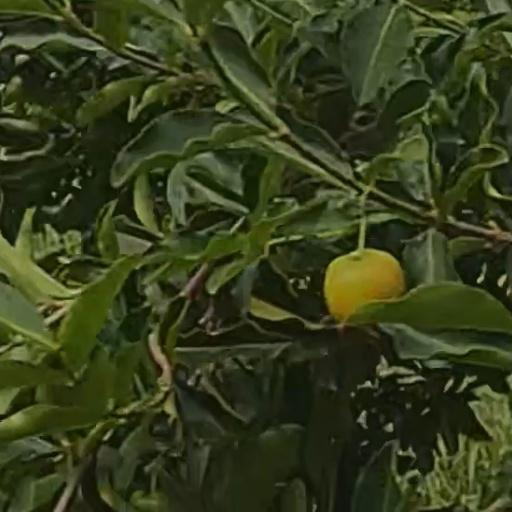acerola: (323, 251, 402, 311)
